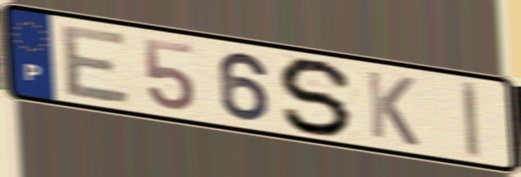5: (140, 34, 199, 113)
6: (215, 48, 274, 124)
E: (60, 23, 134, 106)
I: (458, 79, 484, 162)
K: (363, 67, 422, 150)
S: (275, 56, 359, 138)
